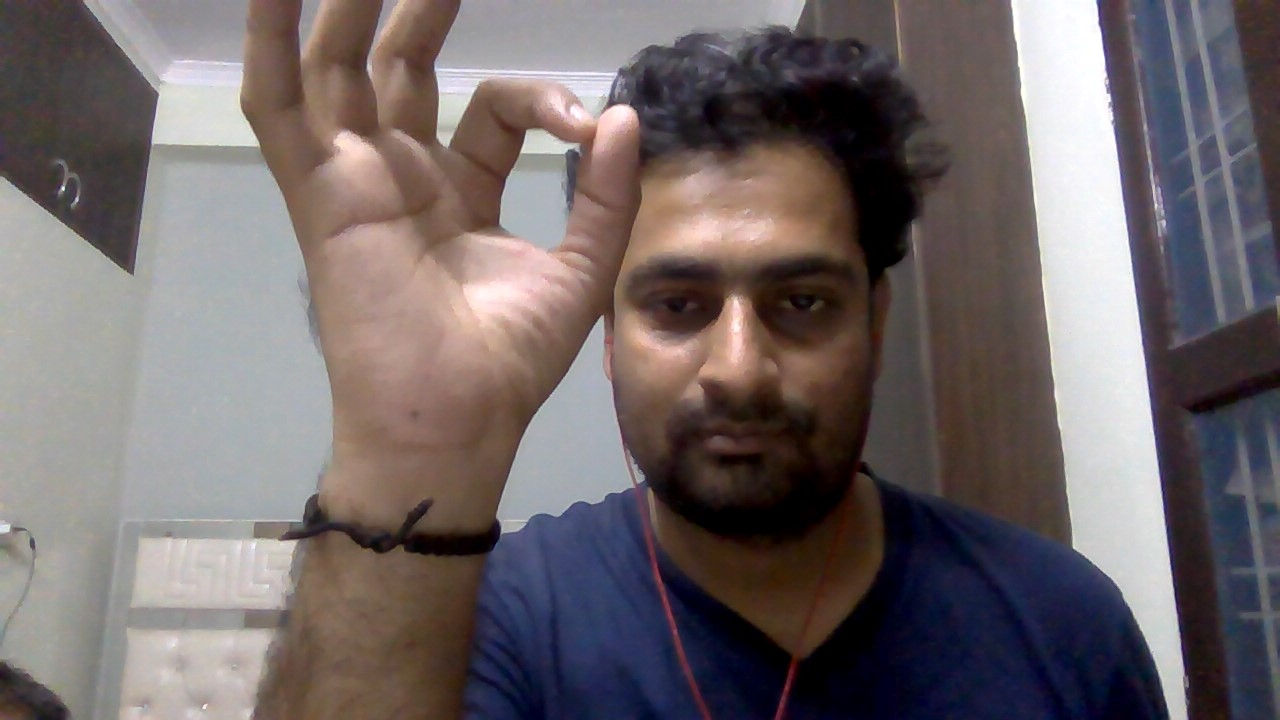Copy: (214, 3, 672, 451)
